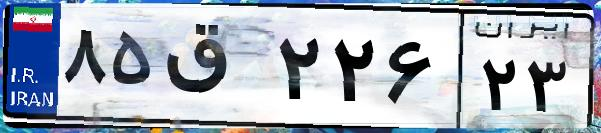2: (270, 28, 330, 110), (330, 28, 385, 110), (475, 38, 525, 113)
3: (525, 38, 570, 115)
5: (110, 28, 158, 98)
6: (385, 28, 445, 110)
8: (57, 26, 110, 100)
ق: (158, 20, 270, 120)
